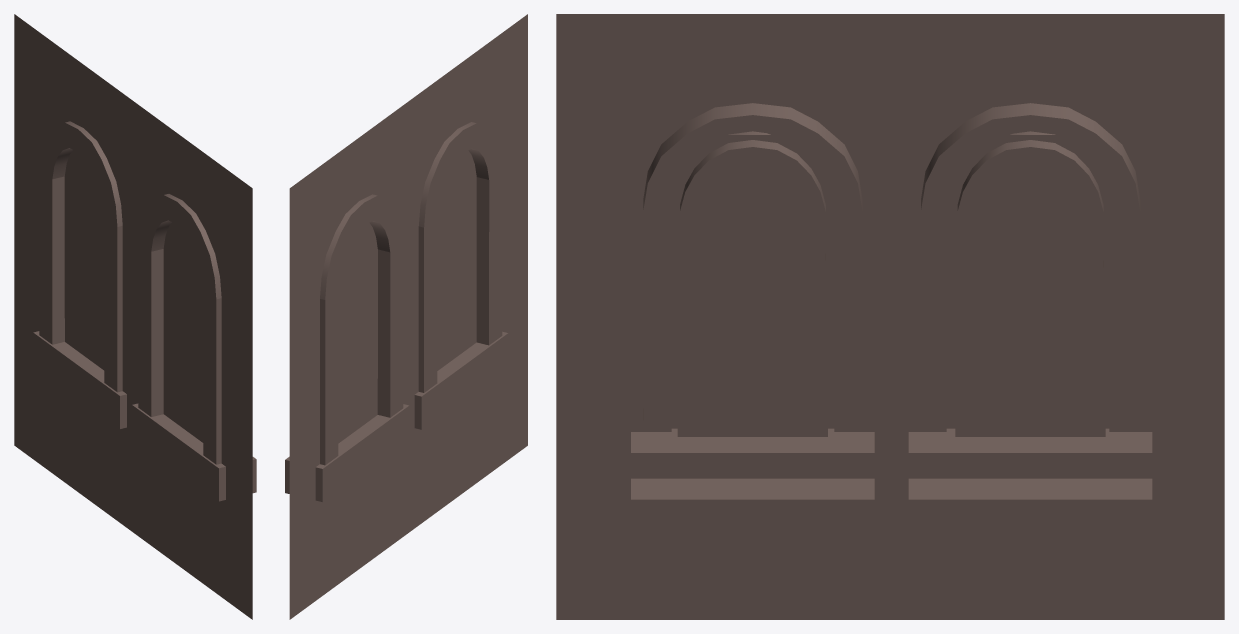
File: Building_Windows_00.fbx
3 views of the same model, side by side, from view 1: azimuth 30°, elevation 25°; view 2: azimuth 150°, elevation 25°; view 3: azimuth 270°, elevation 25° (orthographic). The views are drawn at different scales.
Visible parts, largest first — view 1: Building_Windows_00; view 2: Building_Windows_00; view 3: Building_Windows_00.
Boxes of the visible parts, x1,y1,x2,y2 form: Building_Windows_00: (14,14,256,619); Building_Windows_00: (285,14,527,619); Building_Windows_00: (556,14,1224,619).
Size of the model in its own units: 0.2738 by 3 by 3.
